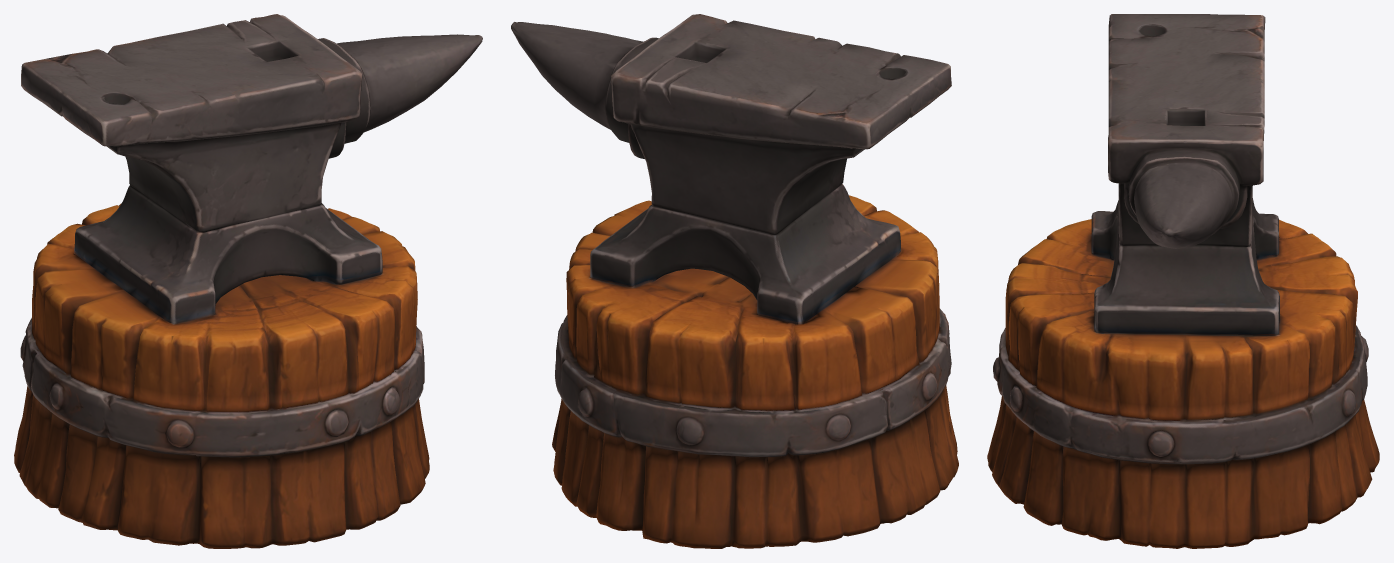
File: anvil.glb
3 views of the same model, side by side, from view 1: azimuth 30°, elevation 25°; view 2: azimuth 150°, elevation 25°; view 3: azimuth 270°, elevation 25° (orthographic). The views are drawn at different scales.
Visible parts, largest first — view 1: tripo_node_18ee537b-df80-47a9-88d4-6faaaa1ee4c8; view 2: tripo_node_18ee537b-df80-47a9-88d4-6faaaa1ee4c8; view 3: tripo_node_18ee537b-df80-47a9-88d4-6faaaa1ee4c8.
Boxes of the visible parts, x1=… form: tripo_node_18ee537b-df80-47a9-88d4-6faaaa1ee4c8: x1=14, y1=14, x2=482, y2=548; tripo_node_18ee537b-df80-47a9-88d4-6faaaa1ee4c8: x1=511, y1=14, x2=958, y2=548; tripo_node_18ee537b-df80-47a9-88d4-6faaaa1ee4c8: x1=987, y1=14, x2=1379, y2=548.
Bounding box in the file's own units: 0.9789 × 0.9022 × 0.8295.
Materials: 1 (1 with a texture image).
